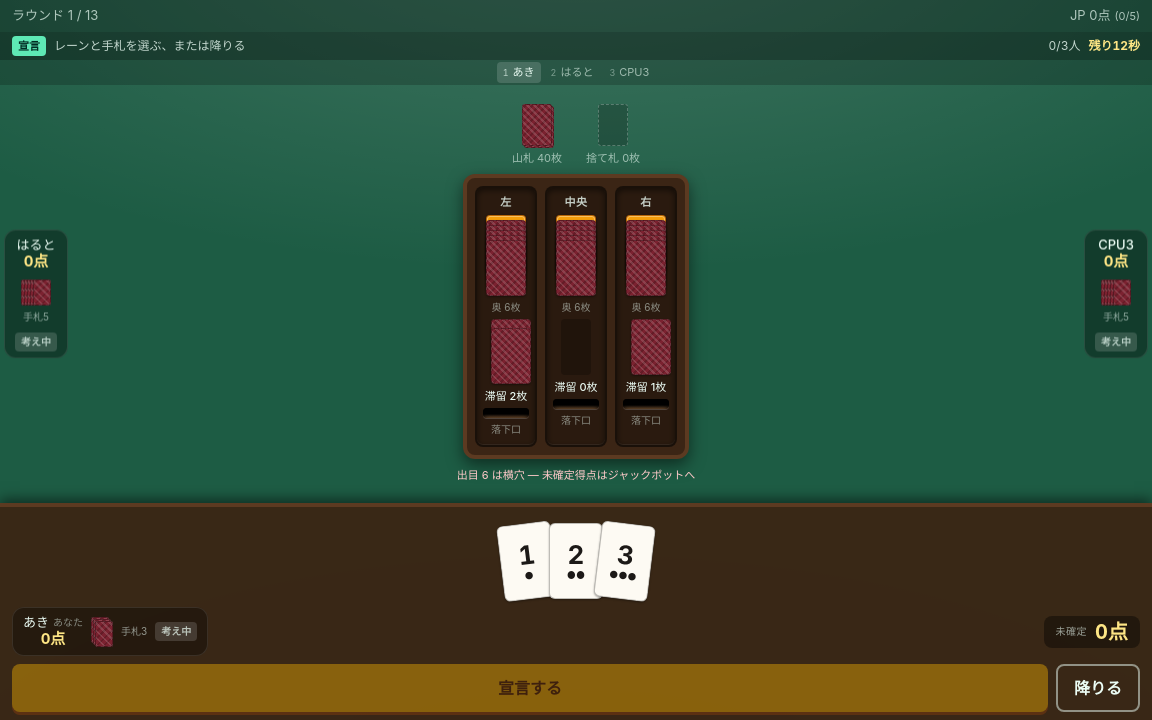
Test case: 目標値の提示（docs/spec.md §3） › カードを選ぶと各レーンの目標値が出る
What coordinates should you click on to do the following:
click the button named "2コイン札"
I would click on:
 (576, 561)
Its box is [549,523,603,599].
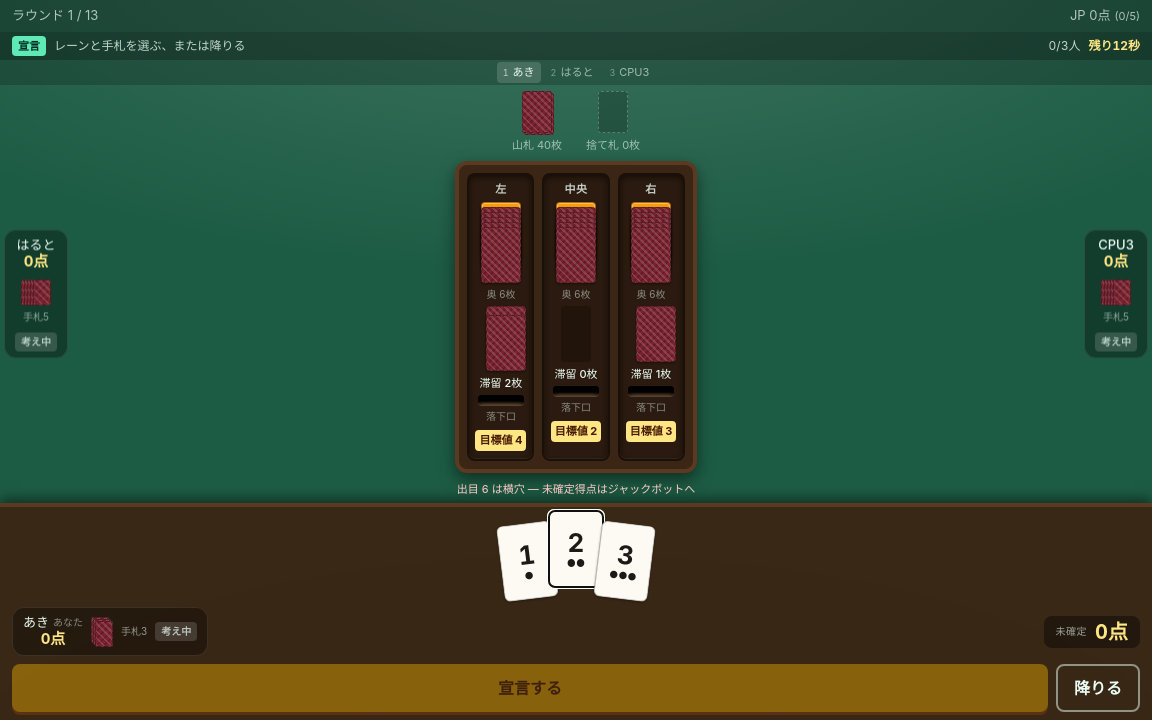
Expected: the text "目標値 4" is shown, [479,432,522,448]
Expected: the text "目標値 2" is shown, [555,423,597,440]
Expected: the text "目標値 3" is shown, [630,423,672,440]
